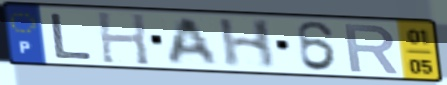6: (294, 20, 338, 74)
A: (165, 16, 222, 66)
H: (94, 10, 152, 67), (215, 17, 277, 70)
L: (49, 11, 96, 61)
R: (342, 22, 402, 75)
